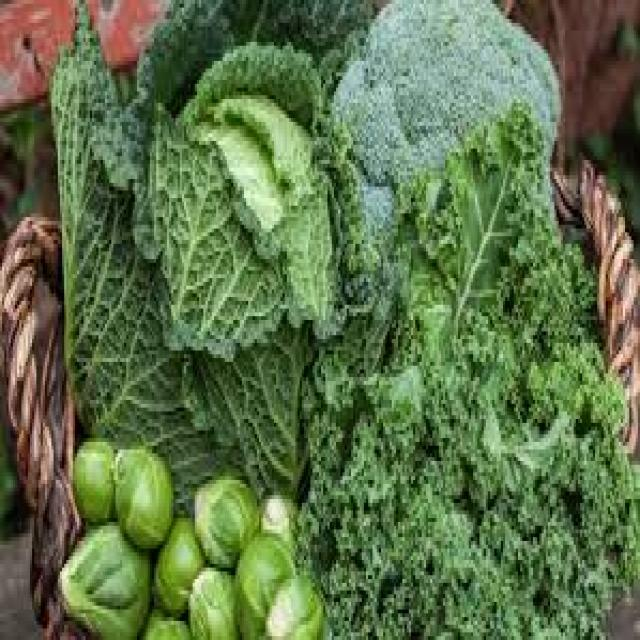organic waste: (289, 95, 638, 636), (52, 0, 370, 495), (328, 0, 558, 305), (58, 518, 152, 636), (109, 446, 176, 552), (234, 530, 294, 636), (190, 476, 257, 560), (150, 510, 203, 610), (73, 434, 120, 522), (187, 560, 236, 636), (263, 572, 319, 636), (257, 492, 297, 548), (133, 606, 188, 636)
